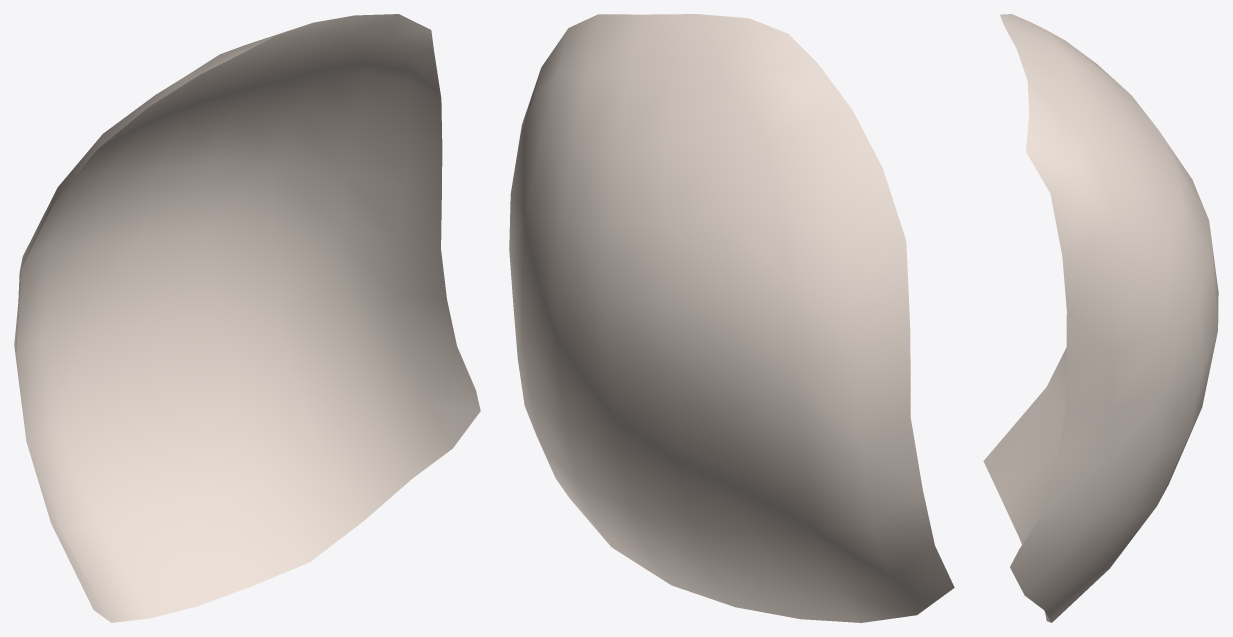
File: frau2-1038.glb
3 renders of one model, left to right at view 1: azimuth 30°, elevation 25°; view 2: azimuth 150°, elevation 25°; view 3: azimuth 270°, elevation 25°, orthographic. The views are drawn at different scales.
Parts seen in each view (by area): view 1: VH_F_medial_condyle_of_left_femur_inf; view 2: VH_F_medial_condyle_of_left_femur_inf; view 3: VH_F_medial_condyle_of_left_femur_inf.
Part boxes in pixels (x1,y1,x2,y2): VH_F_medial_condyle_of_left_femur_inf: (14,14,480,622); VH_F_medial_condyle_of_left_femur_inf: (509,14,954,622); VH_F_medial_condyle_of_left_femur_inf: (983,14,1218,622).
Bounding box in the file's own units: 0.0269 × 0.0347 × 0.0128.
